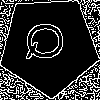Q: (24, 20, 73, 62)
